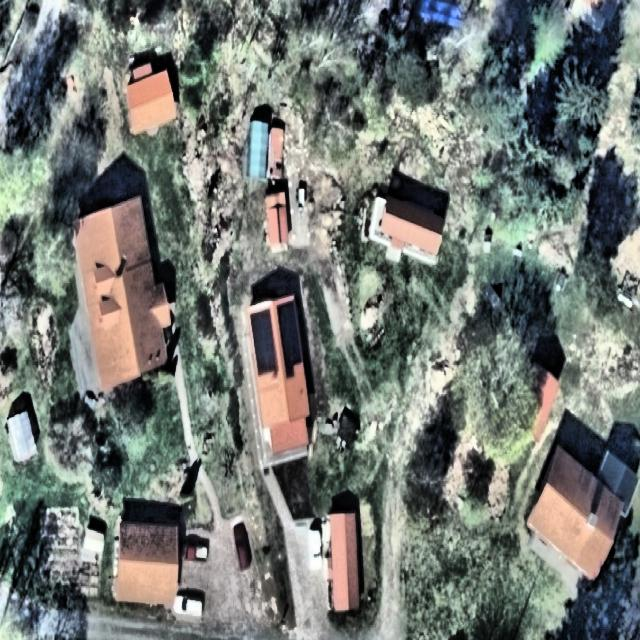roof_pv: (274, 297, 304, 383), (248, 307, 280, 383)
